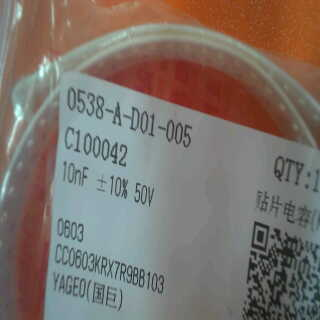10nF: (56, 157, 93, 192)
